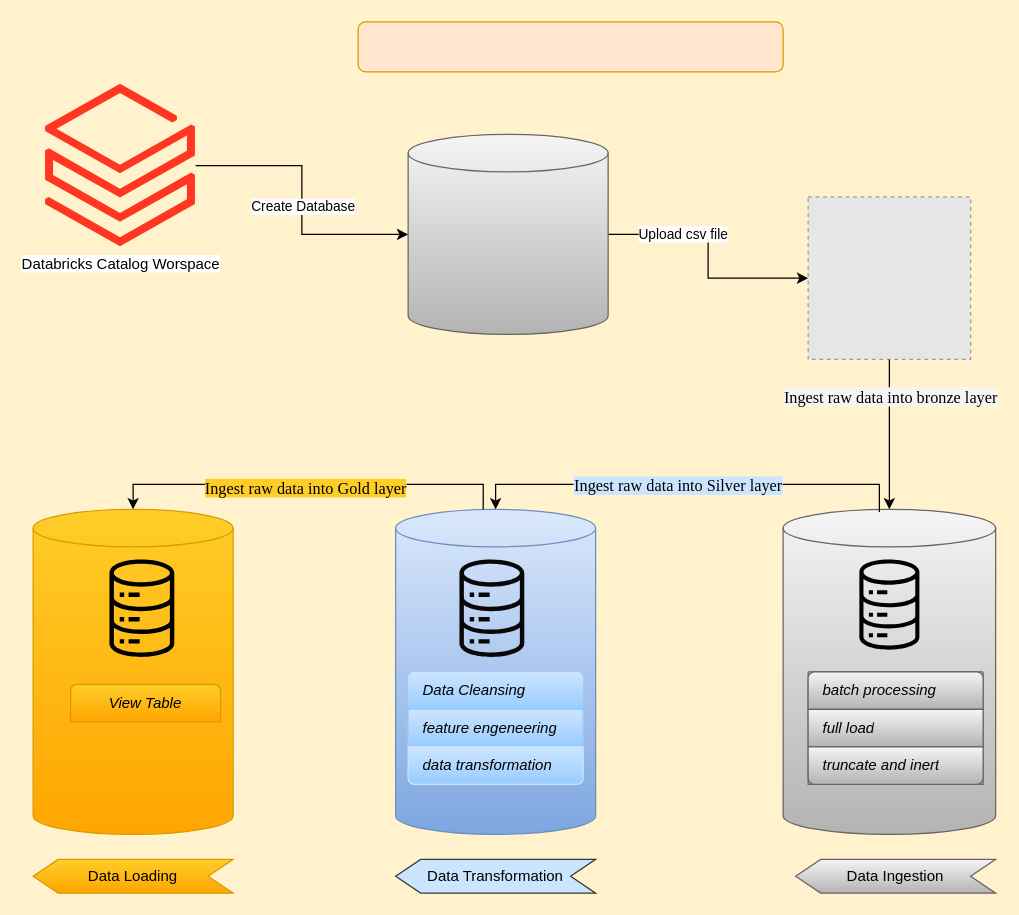
The diagram is 1019 pixels wide and 915 high, and some of its shapes have lost their labels. Grey dashed boxes stand in for pictures. The centre of each missing label's shape, as x and y in pixels:
Data Base: the point at 507,233
Data Engeneer Architecture: the point at 570,46
